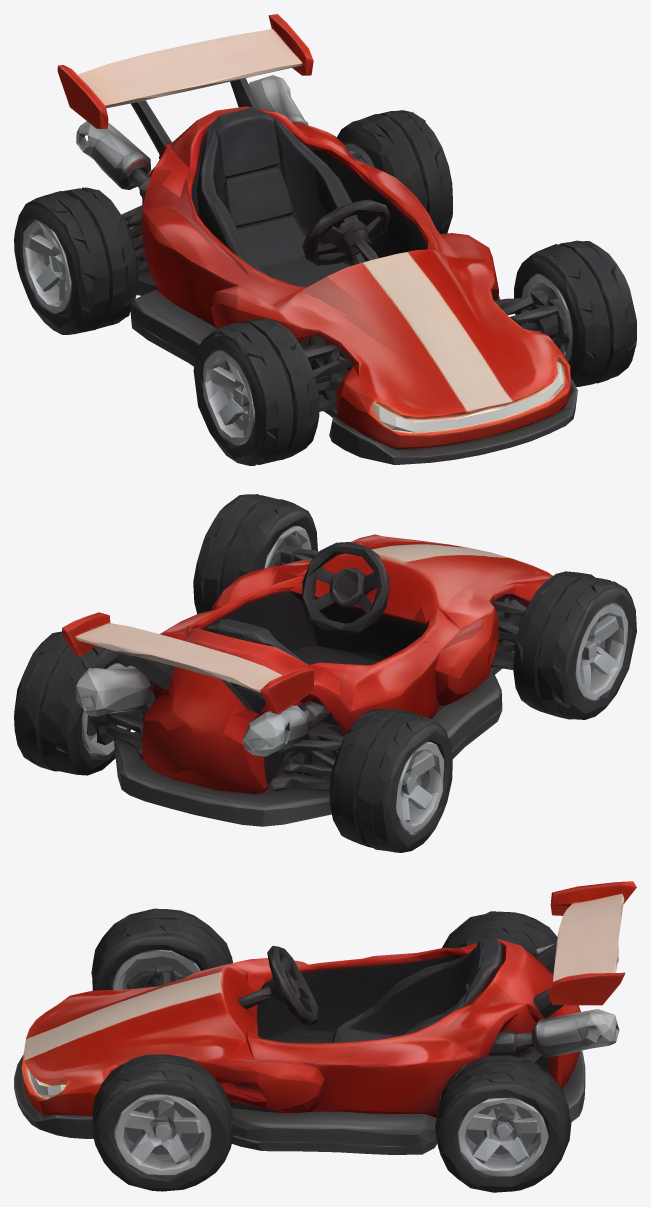
File: crimson-kart-raw.glb
3 views of the same model, one above another, from view 1: azimuth 30°, elevation 25°; view 2: azimuth 150°, elevation 25°; view 3: azimuth 270°, elevation 25° (orthographic). The views are drawn at different scales.
Visible parts, largest first — view 1: model; view 2: model; view 3: model.
Boxes of the visible parts, x1=… form: model: x1=14, y1=14, x2=636, y2=465; model: x1=14, y1=494, x2=636, y2=852; model: x1=14, y1=881, x2=636, y2=1192.
Bounding box in the file's own units: 1.24 × 0.6241 × 1.9.
Materials: 1 (1 with a texture image).
